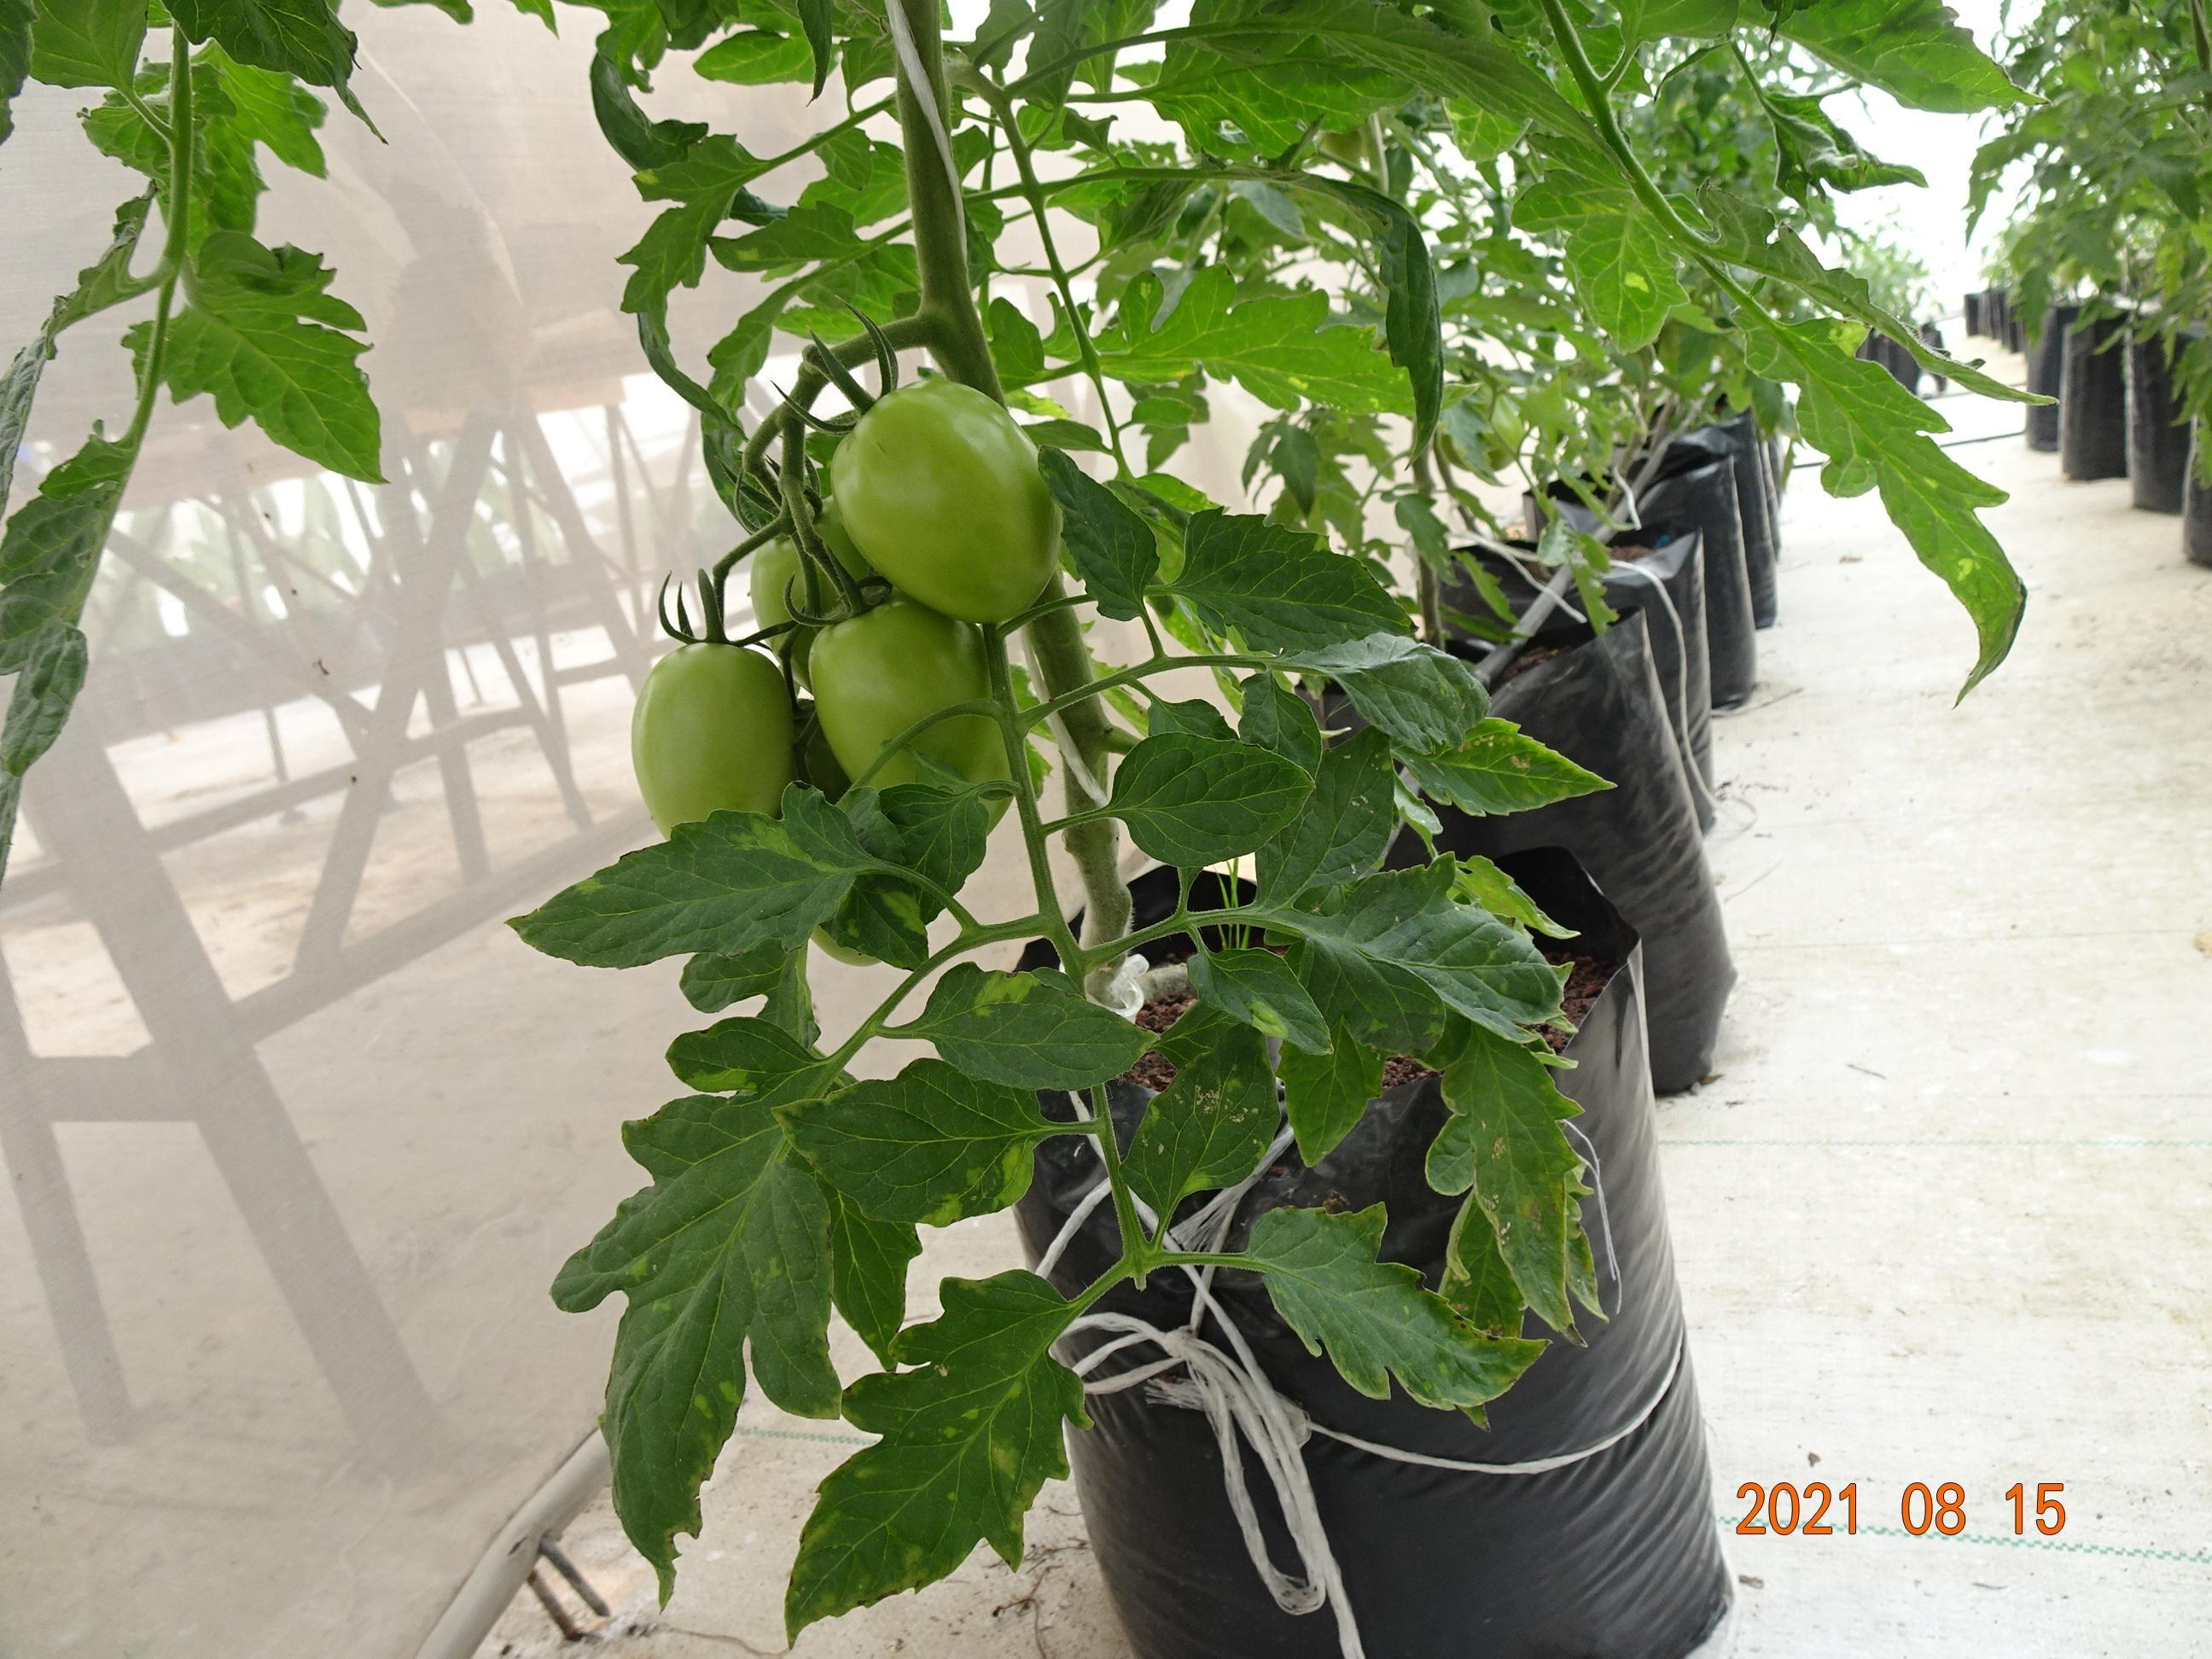Rugose leaf: (554, 1093, 838, 1595), (786, 1270, 1085, 1633), (519, 791, 885, 967), (1240, 1206, 1538, 1408), (1426, 1016, 1599, 1335), (777, 1058, 1068, 1227), (885, 964, 1144, 1089), (1123, 1025, 1278, 1218), (1188, 927, 1331, 1053)
Rugose tomato: (829, 380, 1062, 622), (808, 601, 989, 777), (631, 643, 794, 824)
